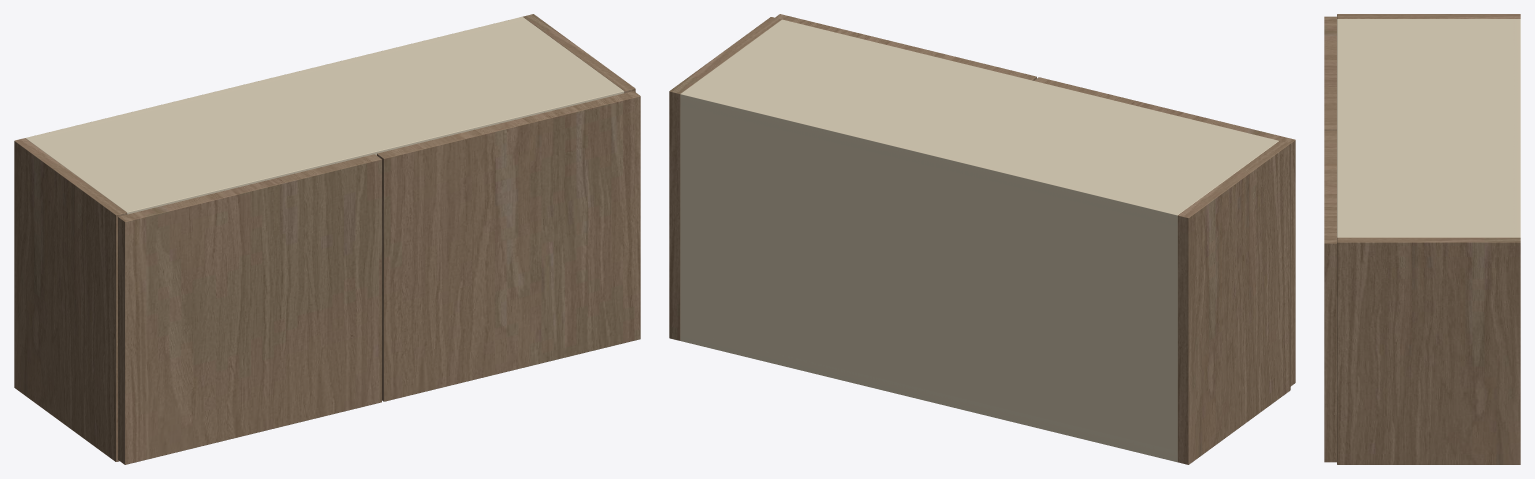
The model's file is oppein-ply-mnw-w3315.glb.
3 views of the same model, side by side, from view 1: azimuth 30°, elevation 25°; view 2: azimuth 150°, elevation 25°; view 3: azimuth 270°, elevation 25° (orthographic). The views are drawn at different scales.
Parts seen in each view (by area): view 1: Door, Door.001, Cabinet top, Cabinet side, Cabinet back, Cabinet side.001; view 2: Cabinet back, Cabinet top, Cabinet side, Cabinet bottom, Cabinet side.001, Door, Door.001; view 3: Cabinet side.001, Cabinet top, Door.001, Cabinet back, Door, Cabinet side.
Boxes of the visible parts, box(x1,y1,x2,y2) form: Door: box(118, 154, 381, 464); Door.001: box(377, 91, 640, 401); Cabinet top: box(25, 17, 624, 214); Cabinet side: box(14, 138, 126, 461); Cabinet back: box(26, 16, 525, 140); Cabinet side.001: box(523, 14, 635, 92); Cabinet back: box(680, 94, 1181, 461); Cabinet top: box(680, 19, 1278, 225); Cabinet side: box(1177, 141, 1290, 464); Cabinet bottom: box(680, 332, 1177, 461); Cabinet side.001: box(669, 17, 781, 340); Door: box(1034, 77, 1295, 386); Door.001: box(775, 14, 1036, 80); Cabinet side.001: box(1337, 237, 1520, 464); Cabinet top: box(1337, 19, 1520, 237); Door.001: box(1324, 130, 1336, 462); Cabinet back: box(1513, 19, 1520, 237); Door: box(1324, 16, 1336, 130); Cabinet side: box(1337, 14, 1520, 18).
Bounding box in the file's own units: 0.8382 × 0.381 × 0.3048.
2 materials, 1 textured.
